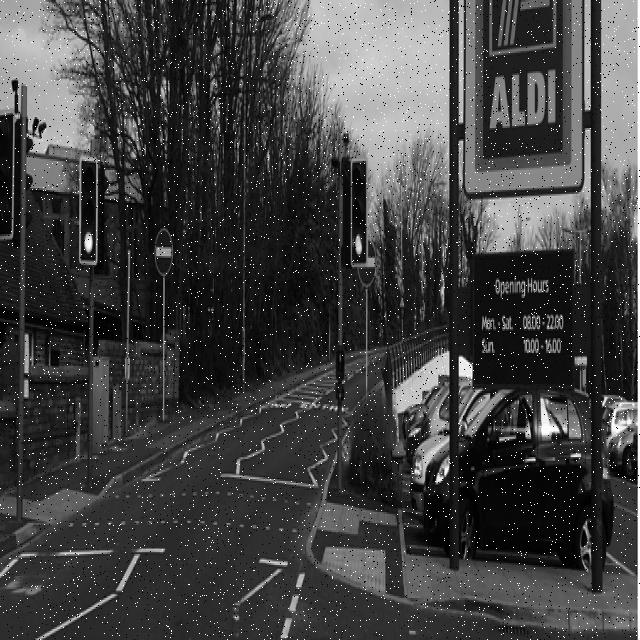no entry: (356, 236, 377, 285), (154, 227, 172, 276)
